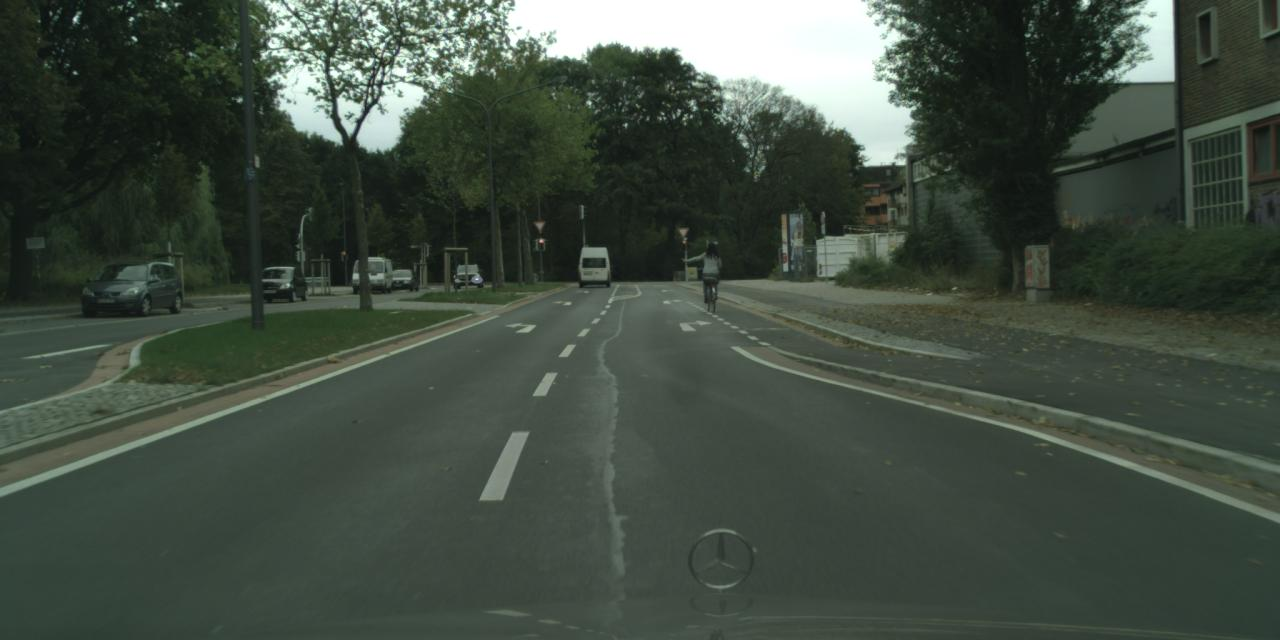ped: (699, 241, 723, 301)
